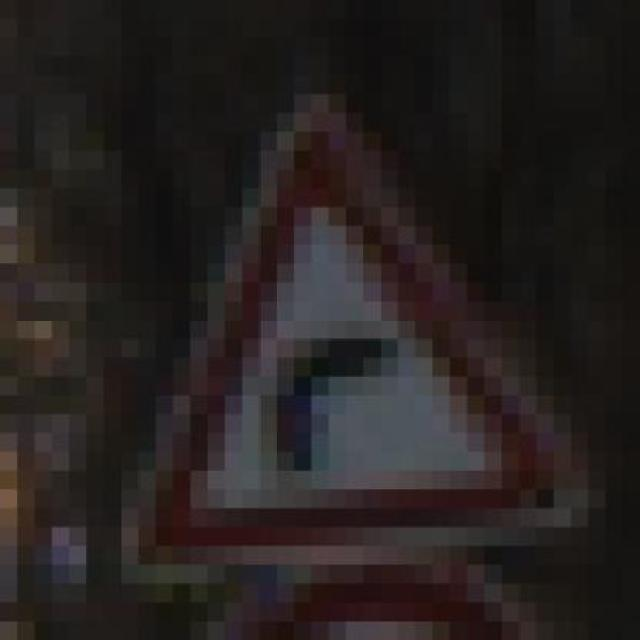Dangerous Rright Curve Ahead: (104, 75, 605, 583)
